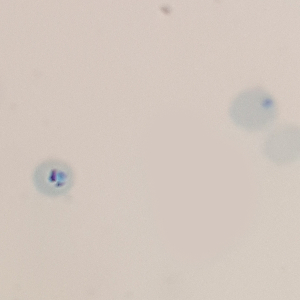erythrocyte: (228, 86, 280, 132), (30, 158, 77, 199)
